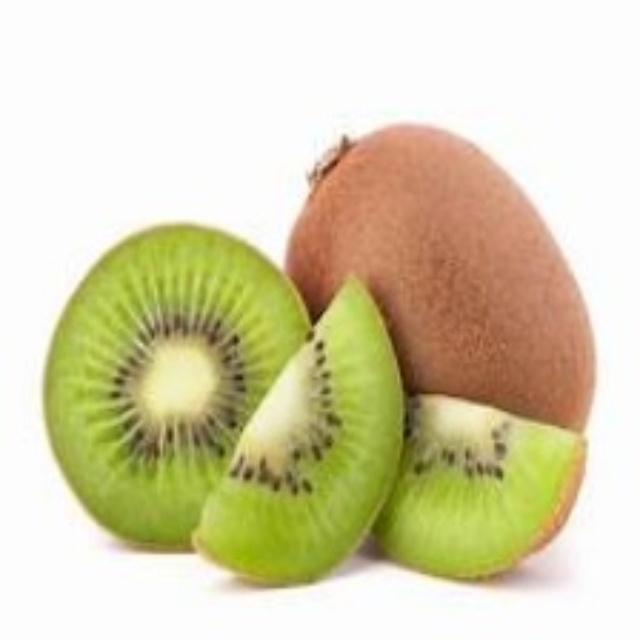kiwi: (198, 318, 586, 587), (268, 114, 595, 427), (31, 224, 313, 557)
